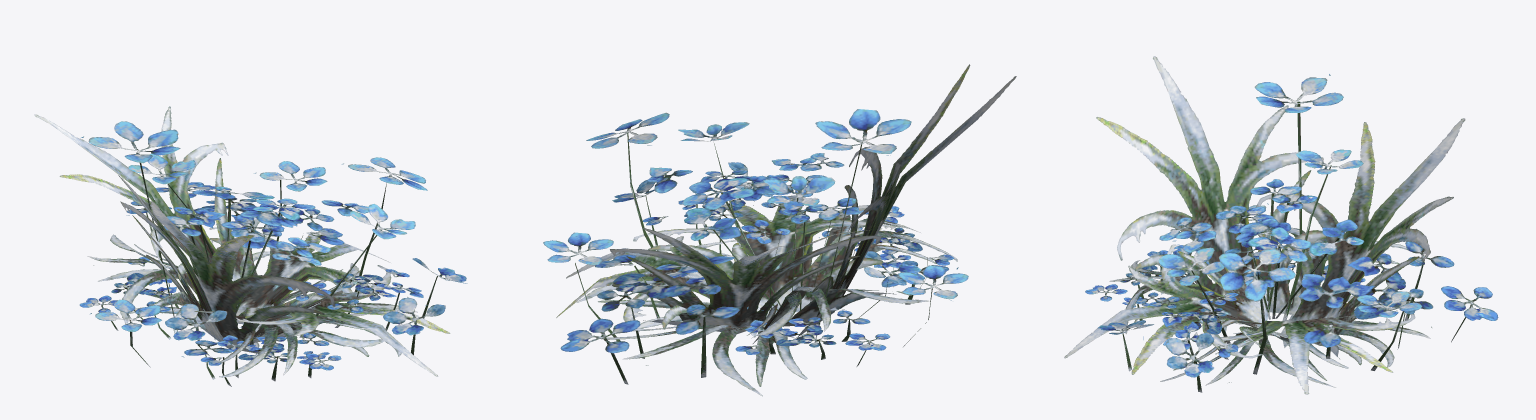
Rendered from 5013_Item_hua_1.FBX.
3 views of the same model, side by side, from view 1: azimuth 30°, elevation 25°; view 2: azimuth 150°, elevation 25°; view 3: azimuth 270°, elevation 25° (orthographic). The views are drawn at different scales.
Visible parts, largest first — view 1: 5013_Item_hua_1; view 2: 5013_Item_hua_1; view 3: 5013_Item_hua_1.
Part boxes in pixels (x1=…): 5013_Item_hua_1: x1=34, y1=106, x2=467, y2=386; 5013_Item_hua_1: x1=543, y1=64, x2=1016, y2=396; 5013_Item_hua_1: x1=1064, y1=56, x2=1498, y2=394.
Bounding box in the file's own units: 343 × 235 × 394.
